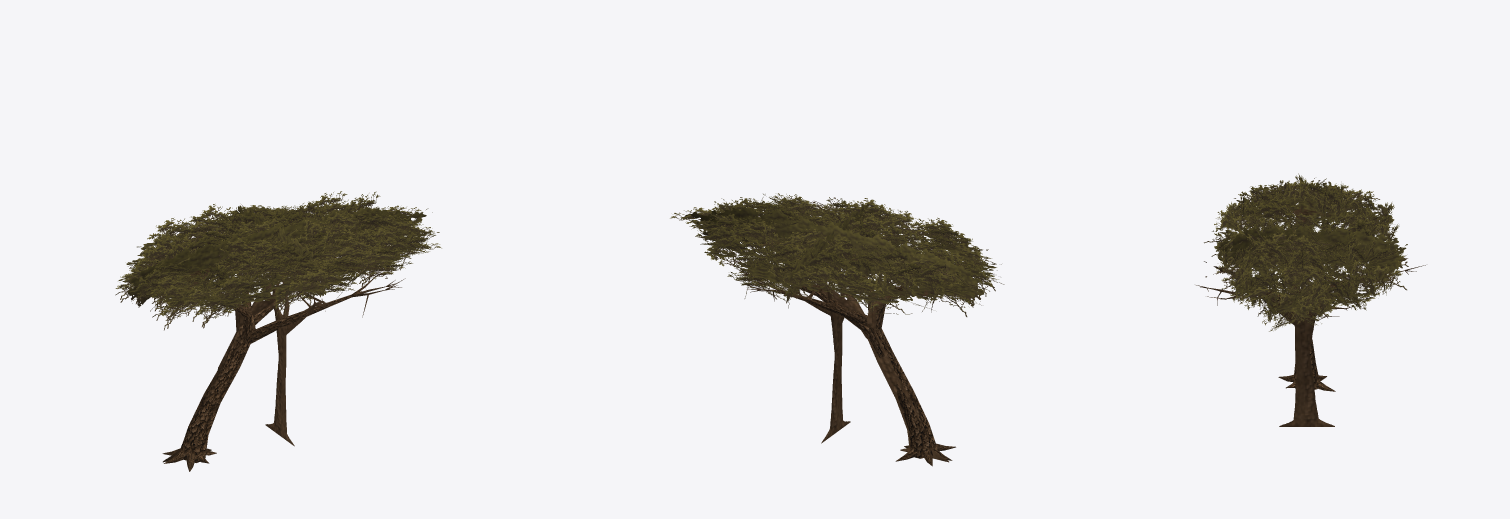
File: Acacia_03_Vento.glb
The picture shows the model from 3 angles, left to right: view 1: azimuth 30°, elevation 25°; view 2: azimuth 150°, elevation 25°; view 3: azimuth 270°, elevation 25°; orthographic projection. The views are drawn at different scales.
Parts seen in each view (by area): view 1: Folhagem fina, Acacia_03_Vento impostor, Tronco e raizes, Ramos principais; view 2: Folhagem fina, Acacia_03_Vento impostor, Tronco e raizes, Ramos principais; view 3: Folhagem fina, Acacia_03_Vento impostor, Tronco e raizes.
Boxes of the visible parts, left/top/right/bottom form: Folhagem fina: left=115, top=191, right=441, bottom=330; Acacia_03_Vento impostor: left=116, top=203, right=439, bottom=462; Tronco e raizes: left=162, top=328, right=255, bottom=471; Ramos principais: left=222, top=280, right=361, bottom=376; Folhagem fina: left=670, top=193, right=1004, bottom=316; Acacia_03_Vento impostor: left=679, top=197, right=1001, bottom=462; Tronco e raizes: left=877, top=329, right=955, bottom=466; Ramos principais: left=793, top=276, right=919, bottom=368; Folhagem fina: left=1204, top=173, right=1408, bottom=331; Acacia_03_Vento impostor: left=1204, top=178, right=1407, bottom=426; Tronco e raizes: left=1278, top=339, right=1335, bottom=391.
Size of what is drawn, in the model's own units: 10.92 by 10.92 by 10.92.
Materials: 3 (3 with a texture image).
